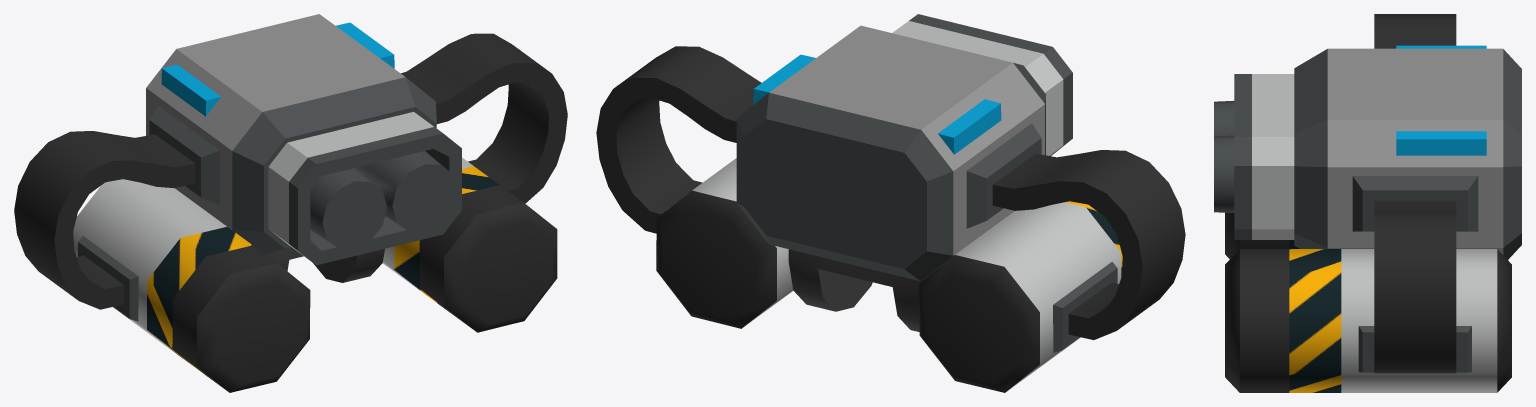
Rendered from Turret_005_Part_03.fbx.
The picture shows the model from 3 angles, left to right: view 1: azimuth 30°, elevation 25°; view 2: azimuth 150°, elevation 25°; view 3: azimuth 270°, elevation 25°; orthographic projection. The views are drawn at different scales.
Visible parts, largest first — view 1: Turret_005_Part_03; view 2: Turret_005_Part_03; view 3: Turret_005_Part_03.
Part boxes in pixels (bbox=[...]): Turret_005_Part_03: bbox=[14, 14, 567, 392]; Turret_005_Part_03: bbox=[596, 14, 1185, 392]; Turret_005_Part_03: bbox=[1214, 14, 1521, 392].
Bounding box in the file's own units: 204 × 104 × 87.99.
